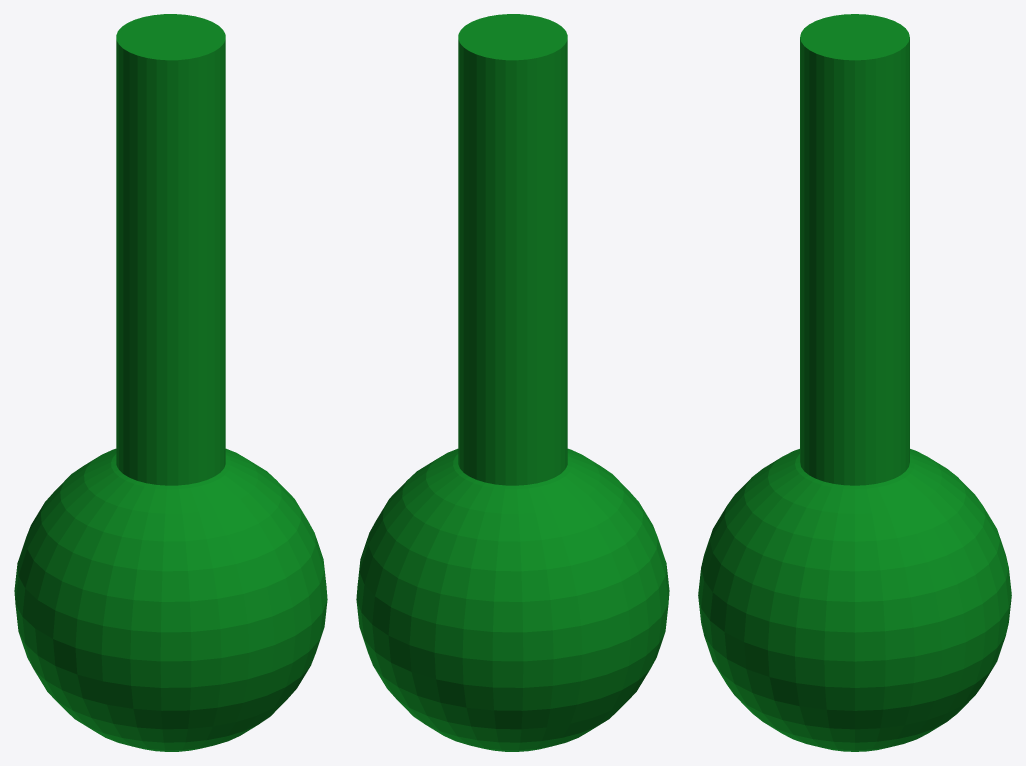
Rendered from buoy_green.fbx.
3 views of the same model, side by side, from view 1: azimuth 30°, elevation 25°; view 2: azimuth 150°, elevation 25°; view 3: azimuth 270°, elevation 25° (orthographic).
Parts seen in each view (by area): view 1: Sphere, Cylinder.018; view 2: Sphere, Cylinder.018; view 3: Sphere, Cylinder.018.
Boxes of the visible parts, bbox=[...] form: Sphere: bbox=[14, 448, 327, 751]; Cylinder.018: bbox=[116, 14, 225, 485]; Sphere: bbox=[356, 448, 669, 751]; Cylinder.018: bbox=[458, 14, 567, 485]; Sphere: bbox=[698, 449, 1011, 751]; Cylinder.018: bbox=[800, 14, 909, 485].
Bounding box in the file's own units: 40 × 98.5 × 40.
1 material, 1 textured.
